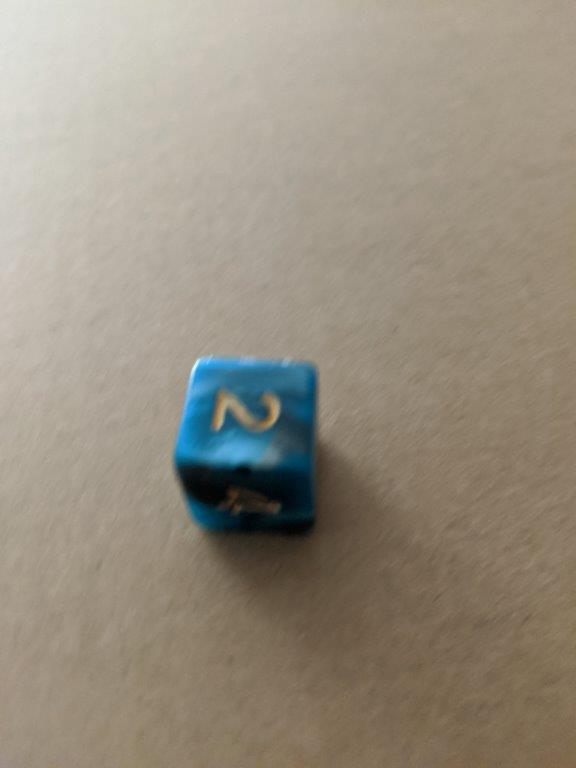d6-2: (171, 353, 322, 544)
